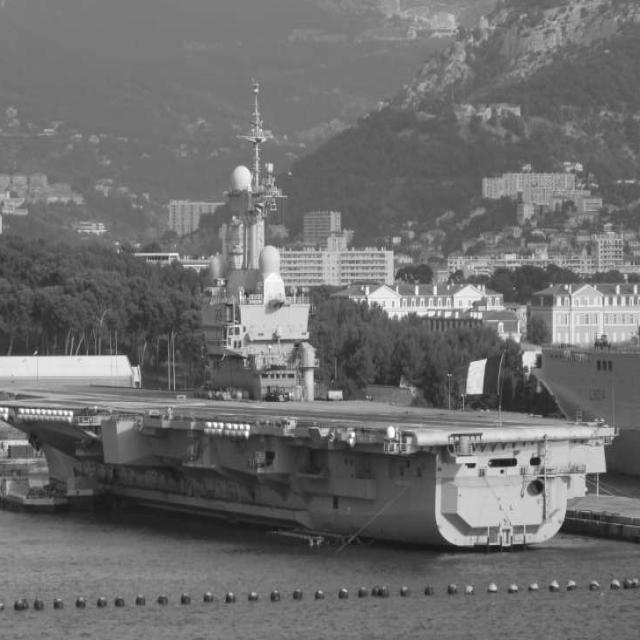Portanaves: (1, 71, 621, 560)
